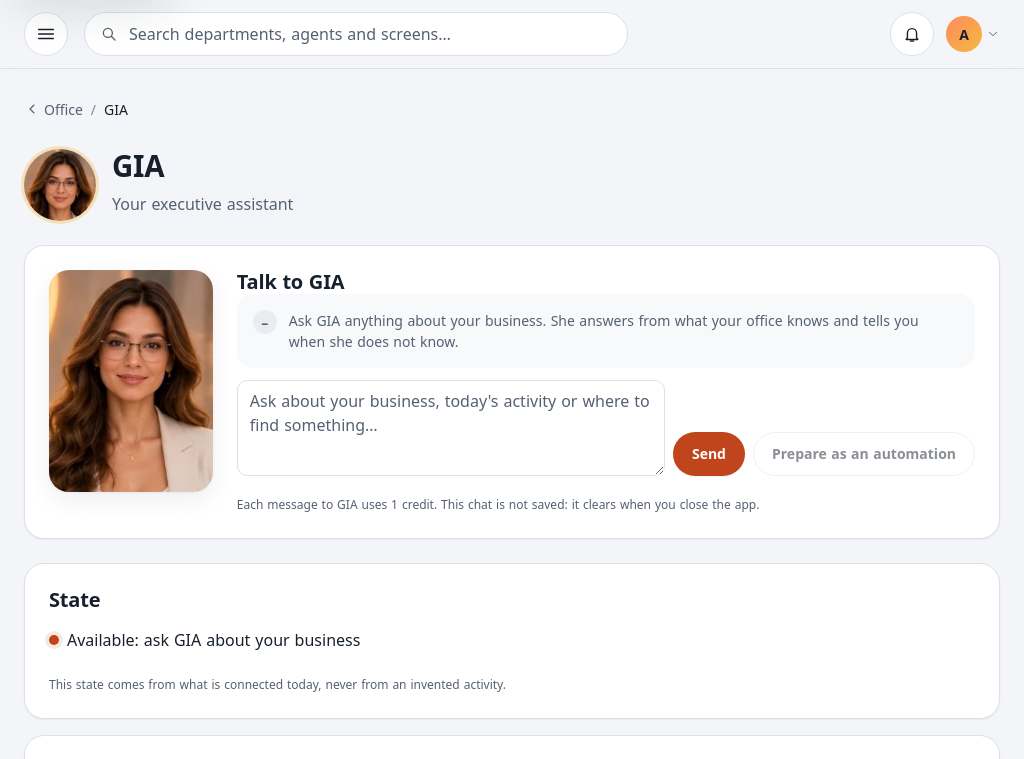
Test: GIA drafts a workflow in her chat (ADR-0171) › keeps the saved draft when the person leaves the chat and comes back: no new draft, no second save
Replace the text in the text box named "Your message to GIA" with "Recupera a los clientes inactivos" at x=451, y=428, box x1=237 y1=380 x2=665 y2=476
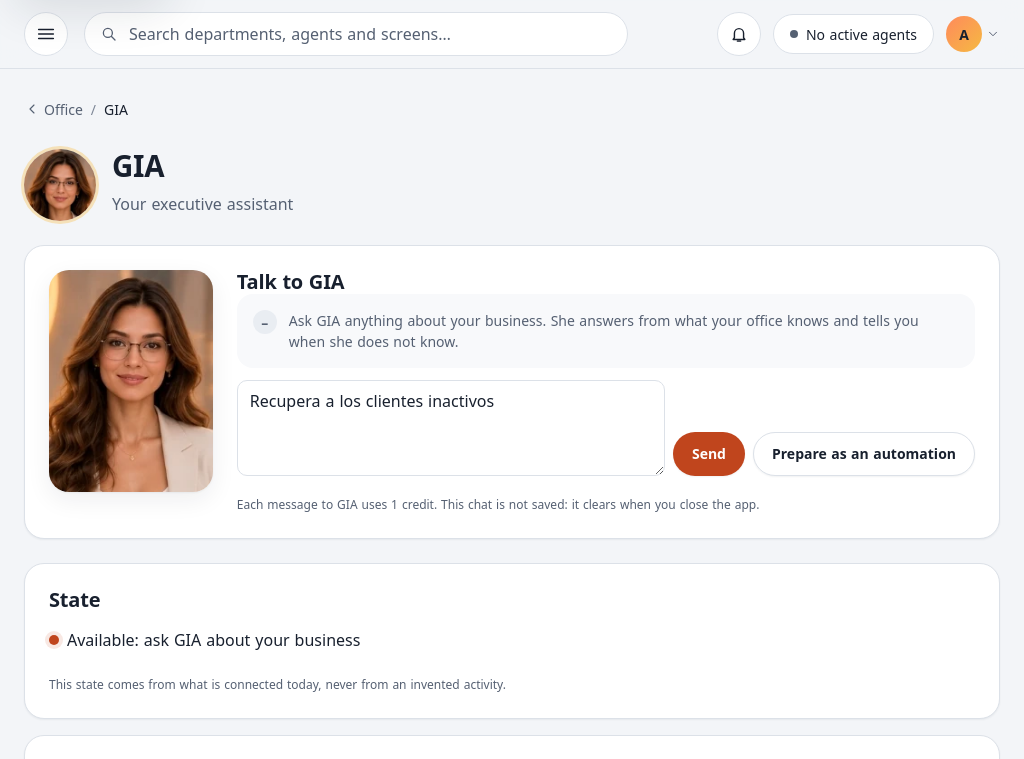
Click the button "Prepare as an automation".
click(864, 454)  # box x1=753 y1=432 x2=975 y2=476
(page scrolled)
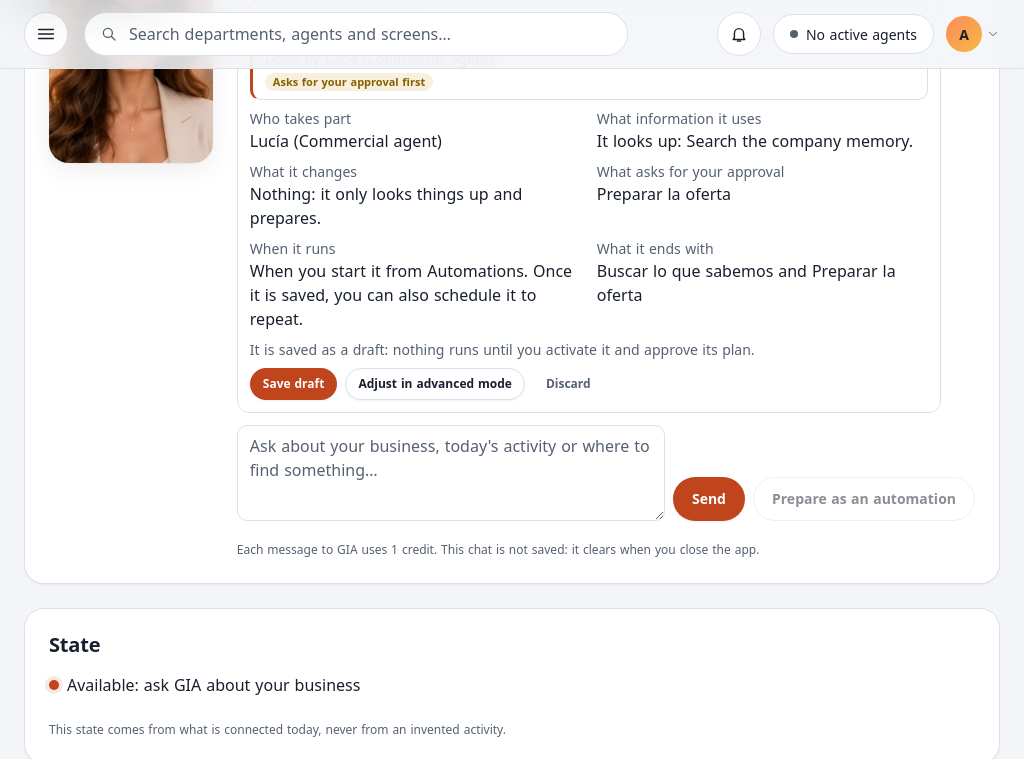
Click the button "Save draft".
click(294, 384)  # box x1=250 y1=368 x2=337 y2=400
(page scrolled)
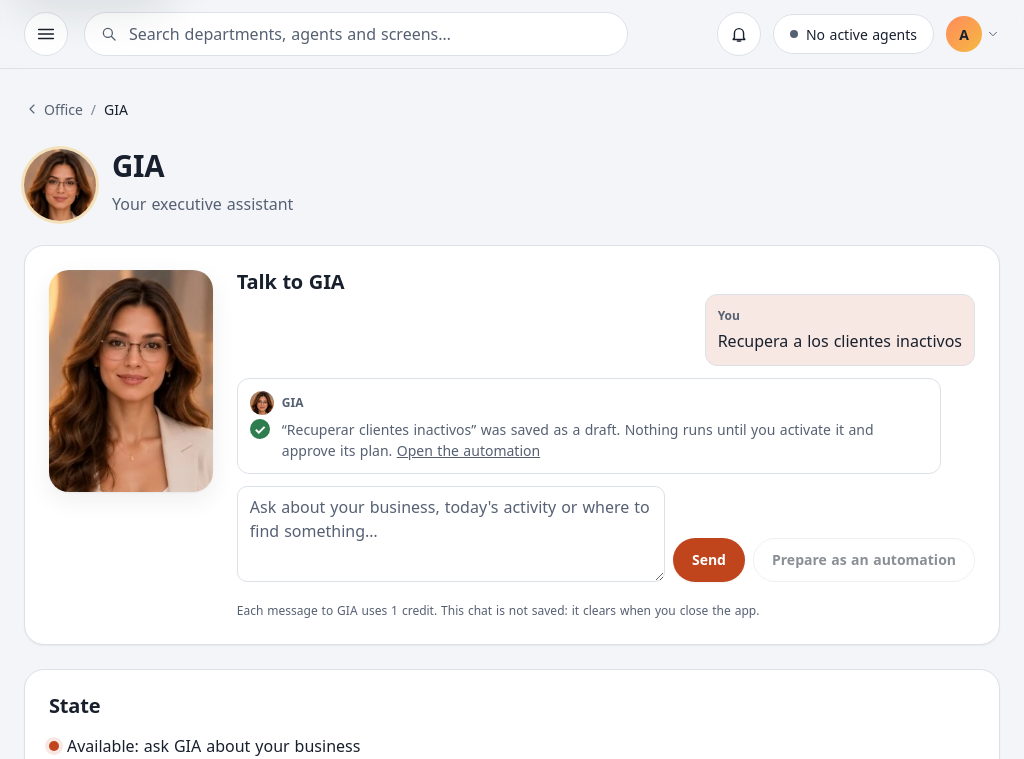
Expected: the text "“Recuperar clientes inactivos” was saved as a draft" is shown, x1=282 y1=420 x2=874 y2=460
Expected: the button "Save draft" is gone
